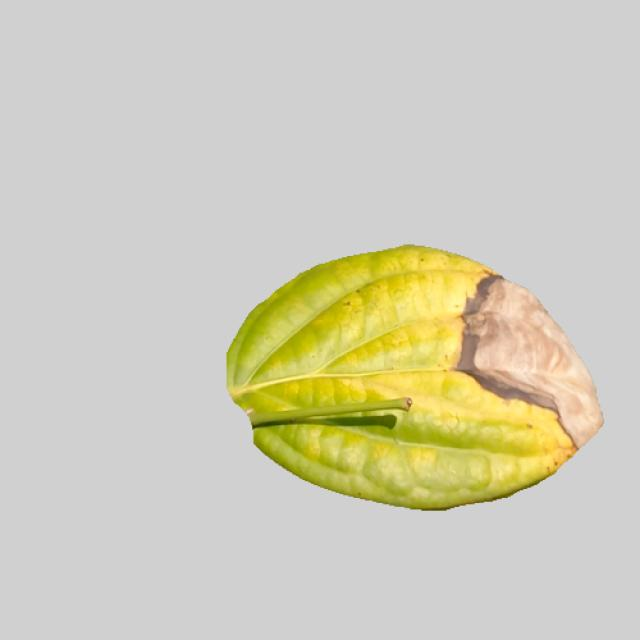leaf-blight: (220, 240, 604, 510)
